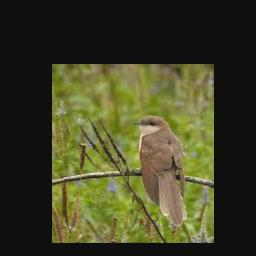Cuckoo: (132, 115, 187, 226)
